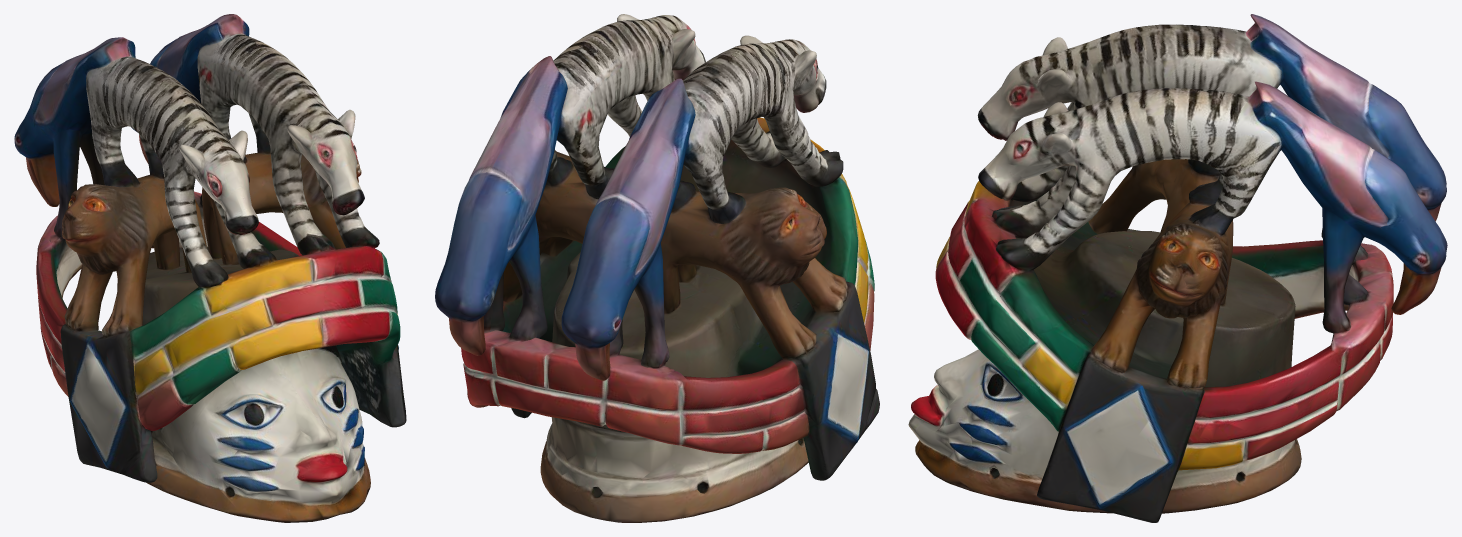
Rendered from tete-sculptee.glb.
3 renders of one model, left to right at view 1: azimuth 30°, elevation 25°; view 2: azimuth 150°, elevation 25°; view 3: azimuth 270°, elevation 25°, orthographic. The views are drawn at different scales.
Visible parts, largest first — view 1: tripo_node_518a4171-d673-451c-b4bc-fe7676ab67fd; view 2: tripo_node_518a4171-d673-451c-b4bc-fe7676ab67fd; view 3: tripo_node_518a4171-d673-451c-b4bc-fe7676ab67fd.
Boxes of the visible parts, left/top/right/bottom form: tripo_node_518a4171-d673-451c-b4bc-fe7676ab67fd: left=14, top=14, right=406, bottom=522; tripo_node_518a4171-d673-451c-b4bc-fe7676ab67fd: left=435, top=14, right=879, bottom=522; tripo_node_518a4171-d673-451c-b4bc-fe7676ab67fd: left=908, top=14, right=1447, bottom=522.
Size of the model in its own units: 0.6668 by 0.8452 by 0.9808.
1 material, 1 textured.
